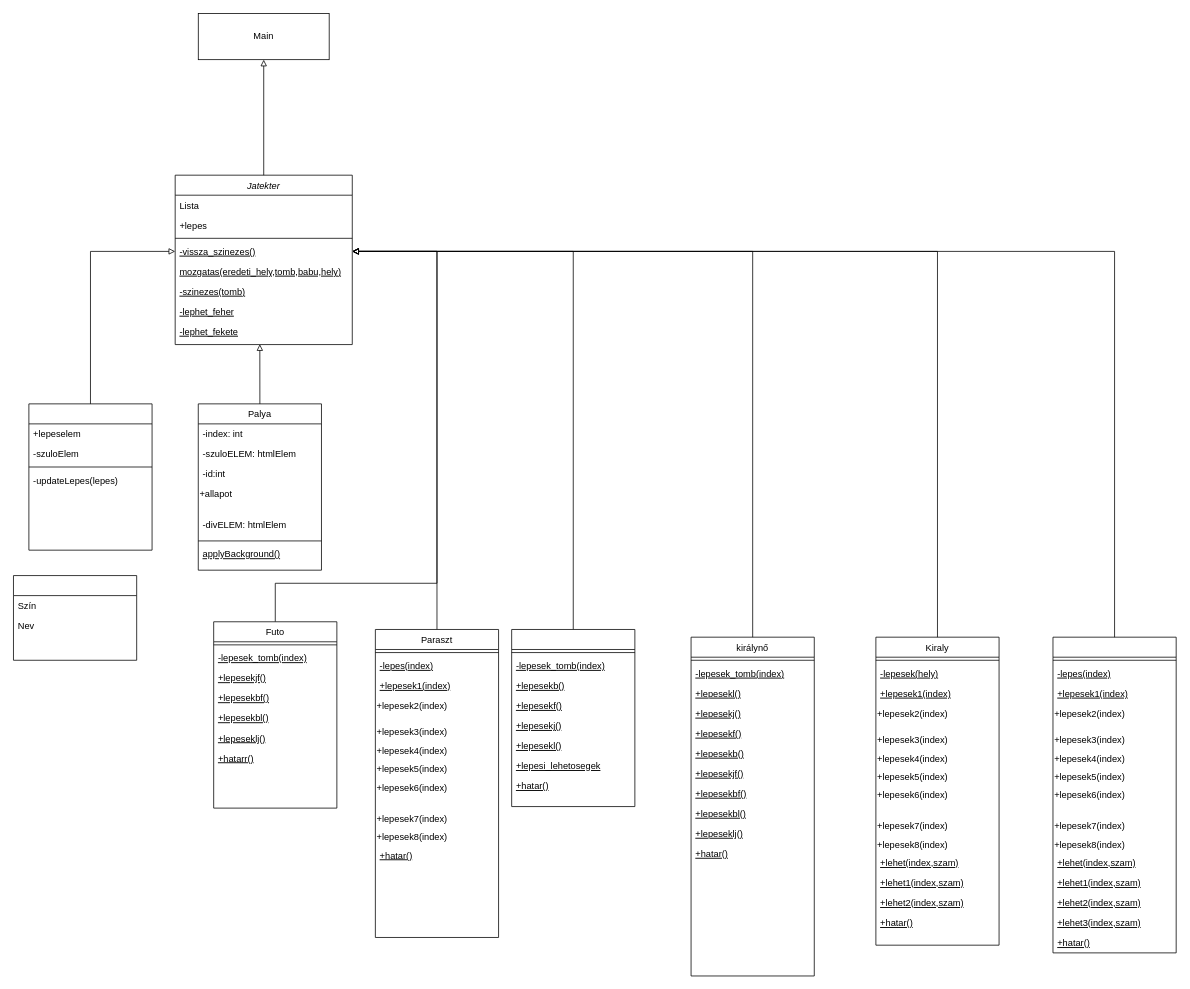
Image size: 1190x989. Some labels were removed from this diagram. The box of each missing label's shape, as (x1, y1, x2, y2) in pixels:
Bábuk_adat_lista: (13, 575, 137, 660)
Básttya: (511, 629, 635, 807)
InfoPanel: (28, 403, 152, 550)
Lo: (1052, 636, 1176, 953)
